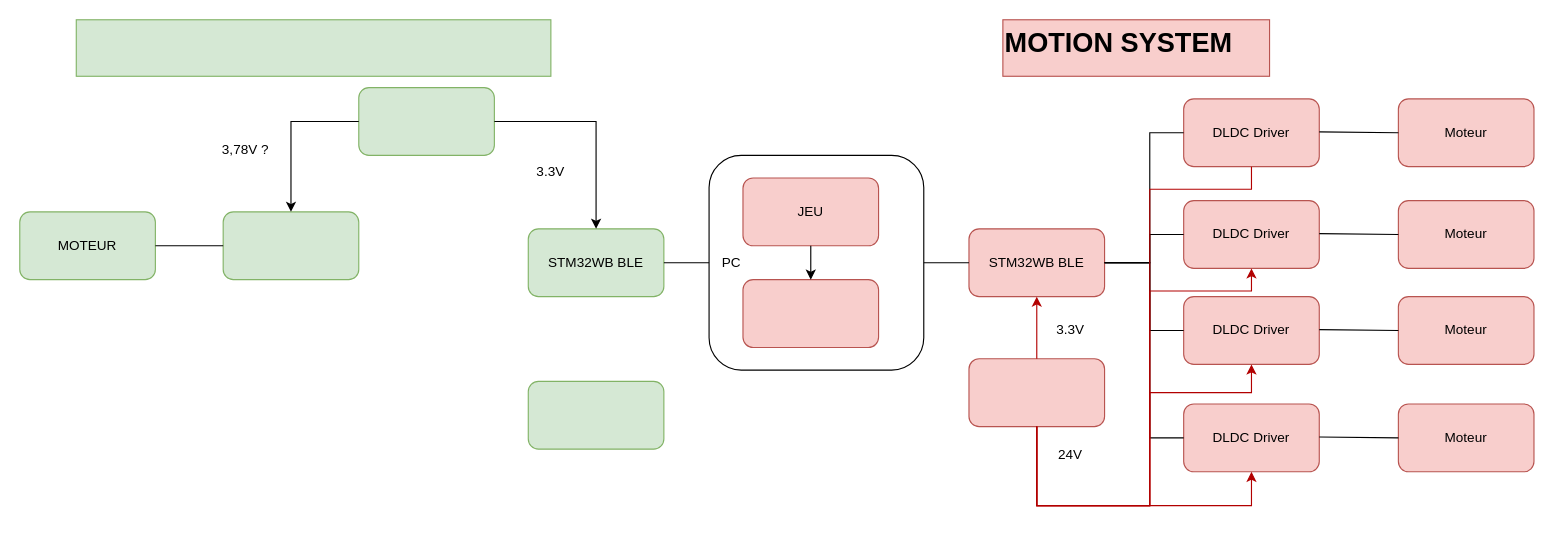
The diagram is 1554 pixels wide and 534 high, and some of its shapes have lost their labels. The centre of each missing label's shape, as x and y in pixels:
"ALIM Frein" goes at [426,120].
"ALIM Moteur" goes at [1036,392].
"FREIN A RETOUR DE FORCE" goes at [313,47].
"LOAD CELL" goes at [595,414].
"SIM FEEDBACK : SIM TOOLS" goes at [810,313].
"STEPPER DRIVER" goes at [290,245].
